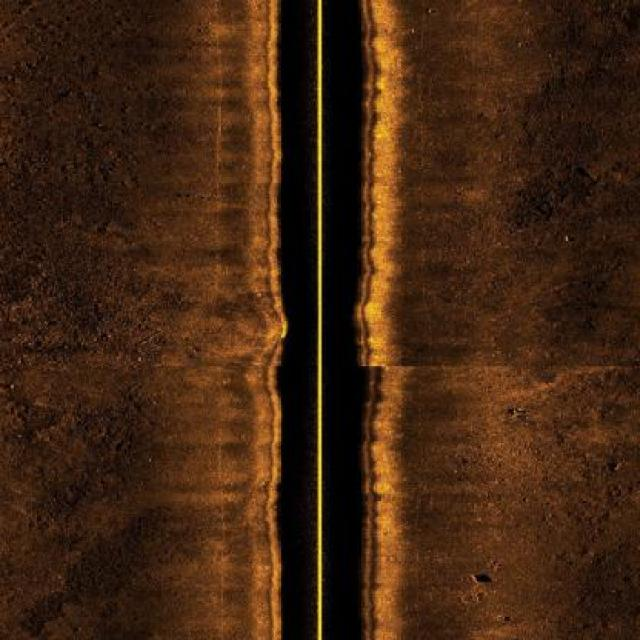mine: (467, 572, 495, 585)
